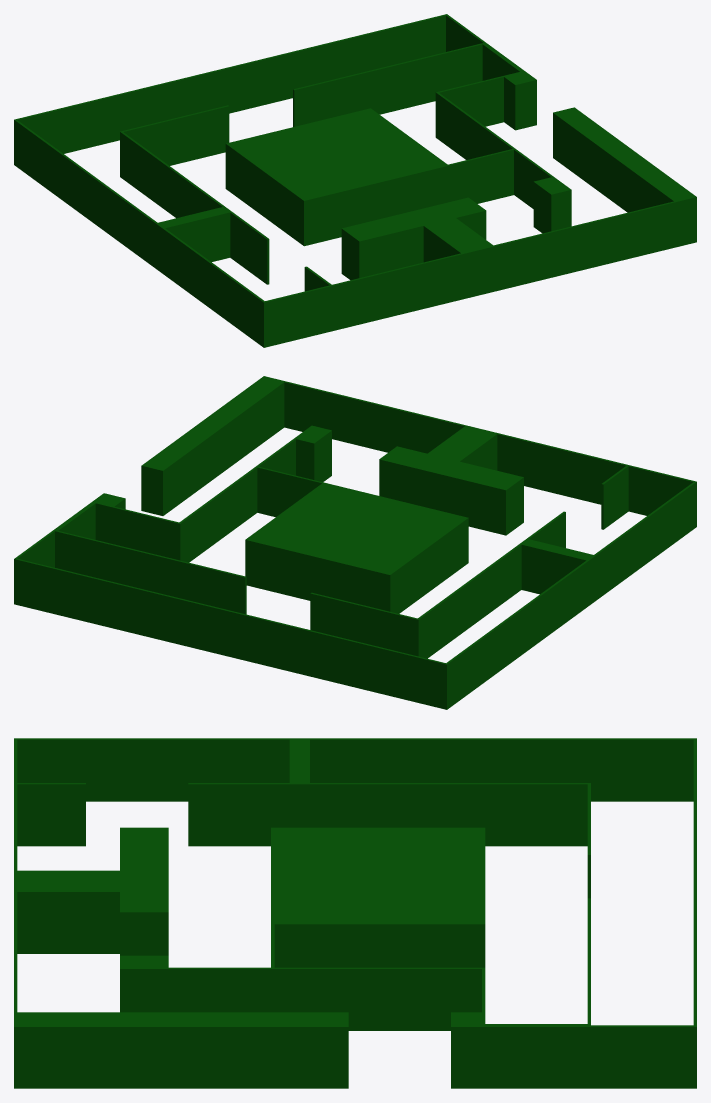
The model's file is laberinto.dae.
The picture shows the model from 3 angles, top to bottom: view 1: azimuth 30°, elevation 25°; view 2: azimuth 150°, elevation 25°; view 3: azimuth 270°, elevation 25°; orthographic projection. The views are drawn at different scales.
Visible parts, largest first — view 1: node0; view 2: node0; view 3: node0.
Part boxes in pixels (bbox=[...]): node0: bbox=[14, 14, 696, 347]; node0: bbox=[14, 376, 696, 709]; node0: bbox=[14, 738, 696, 1088].
Size of the model in its own units: 0.02 by 0.02 by 0.002.
